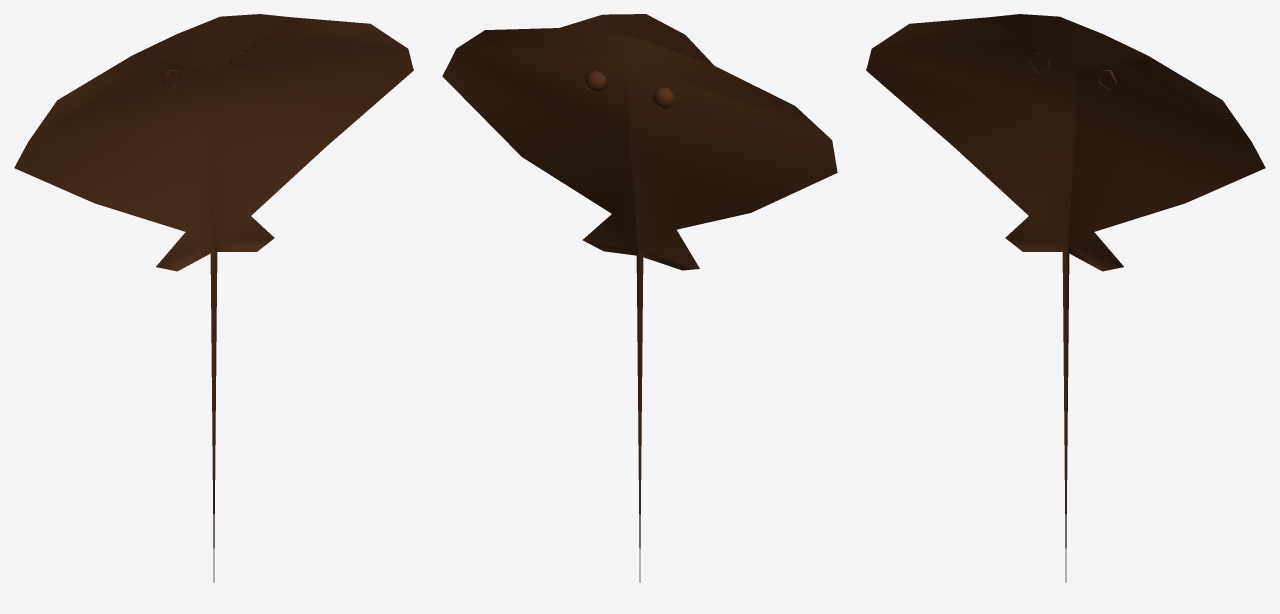
The model's file is Scat.fbx.
The picture shows the model from 3 angles, left to right: view 1: azimuth 30°, elevation 25°; view 2: azimuth 150°, elevation 25°; view 3: azimuth 330°, elevation 25°; orthographic projection.
Parts seen in each view (by area): view 1: Scat; view 2: Scat; view 3: Scat.
Part boxes in pixels (x1=…): Scat: x1=14, y1=14, x2=413, y2=582; Scat: x1=442, y1=14, x2=837, y2=582; Scat: x1=866, y1=14, x2=1265, y2=582.
Size of the model in its own units: 1165 by 1637 by 114.
